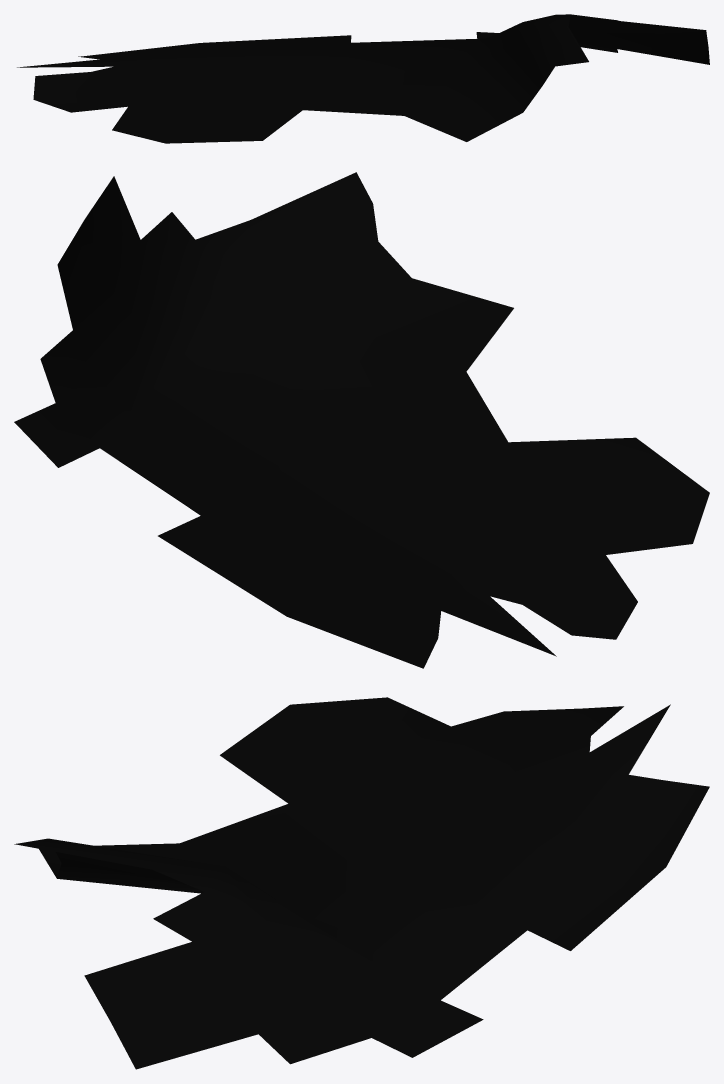
Rendered from HTOWN01_TREESHADOWS27.fbx.
3 renders of one model, top to bottom at view 1: azimuth 30°, elevation 25°; view 2: azimuth 150°, elevation 25°; view 3: azimuth 270°, elevation 25°, orthographic. The views are drawn at different scales.
Parts seen in each view (by area): view 1: HTOWN01_TREESHADOWS27; view 2: HTOWN01_TREESHADOWS27; view 3: HTOWN01_TREESHADOWS27.
Part boxes in pixels (bbox=[...]): HTOWN01_TREESHADOWS27: bbox=[17, 14, 709, 143]; HTOWN01_TREESHADOWS27: bbox=[14, 172, 709, 668]; HTOWN01_TREESHADOWS27: bbox=[14, 697, 709, 1069].
Size of the model in its own units: 327128 by 58674 by 250400.
1 material, 1 textured.
